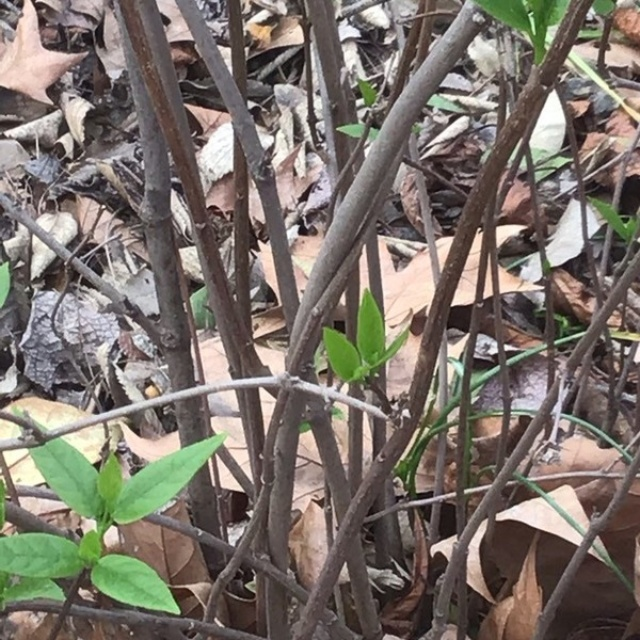obstacle: (13, 414, 243, 615), (303, 276, 404, 384)
